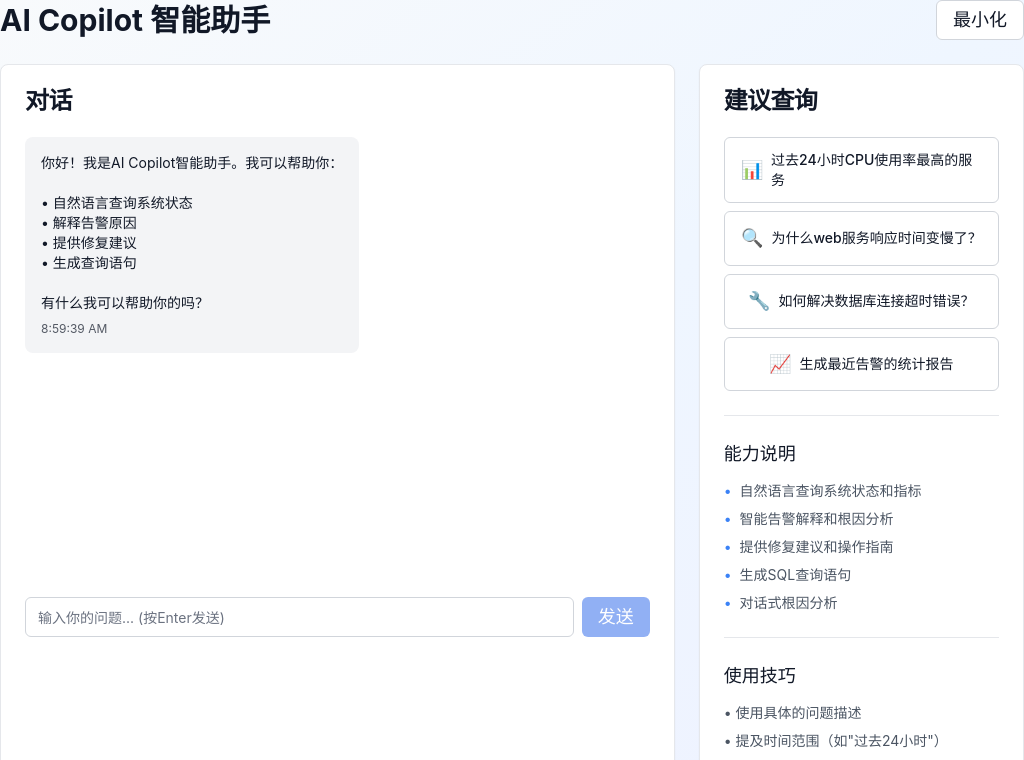
Test case: AICopilotPage › Minimize Functionality › should minimize when minimize button is clicked
Click the button "最小化": x=980, y=20 936,0 -> 1023,40
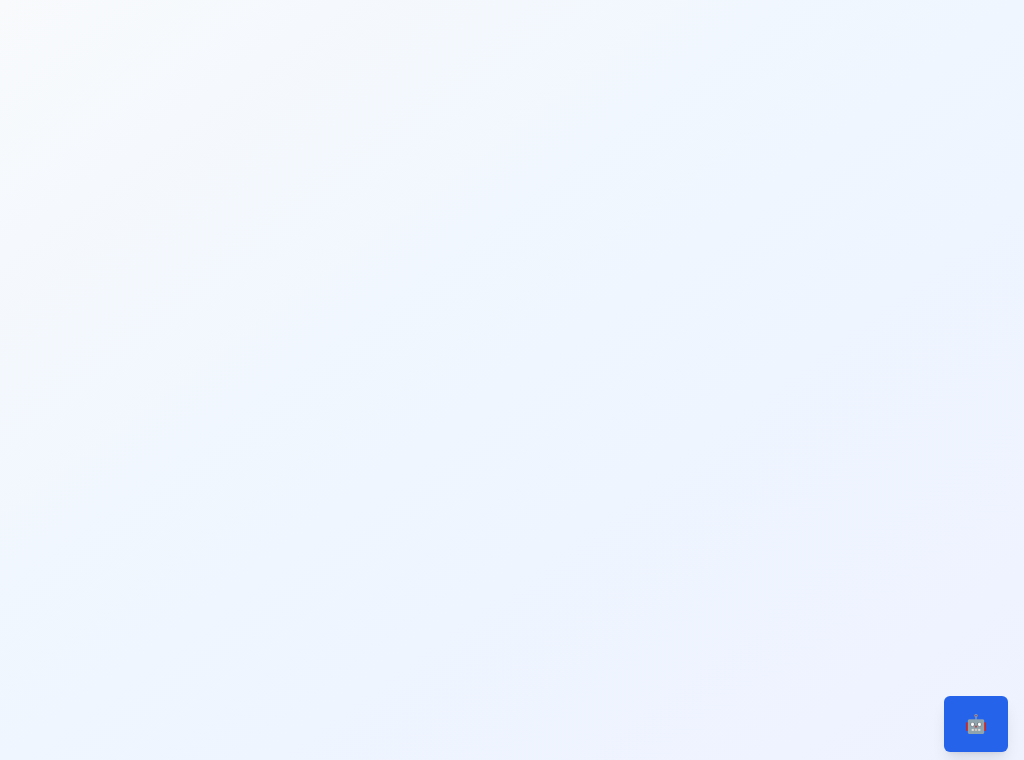
Check: the heading "AI Copilot 智能助手" is gone
